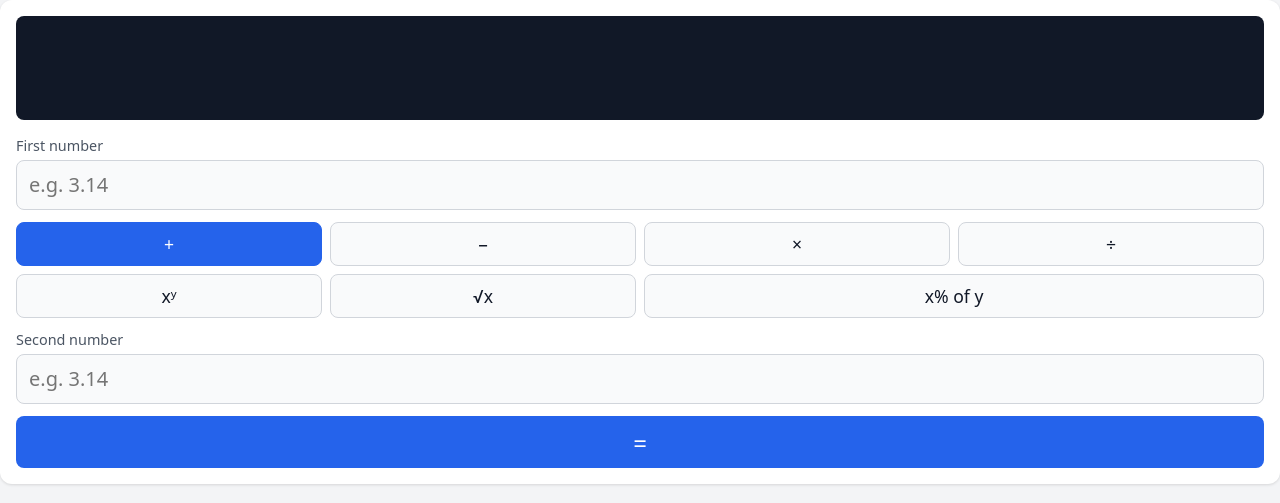
Test: Calculator › sends the operands to the selected operation and shows the result
Type "10" into the field labelled "First number" at (640, 185), box top-left (16, 160), bottom-right (1264, 210)
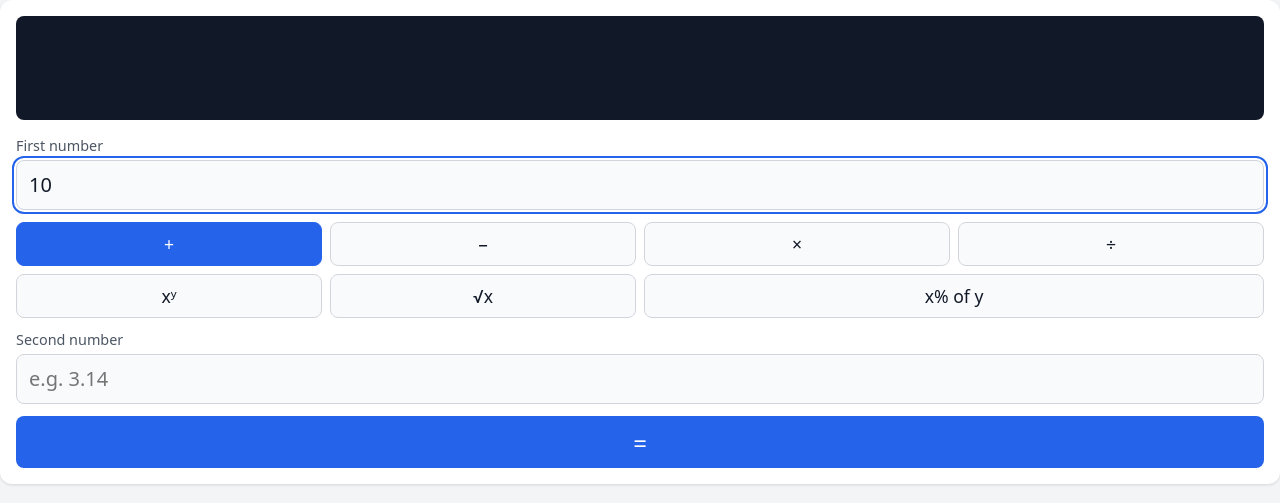
Click the radio button named "Divide" at (1111, 244), box top-left (958, 222), bottom-right (1264, 266)
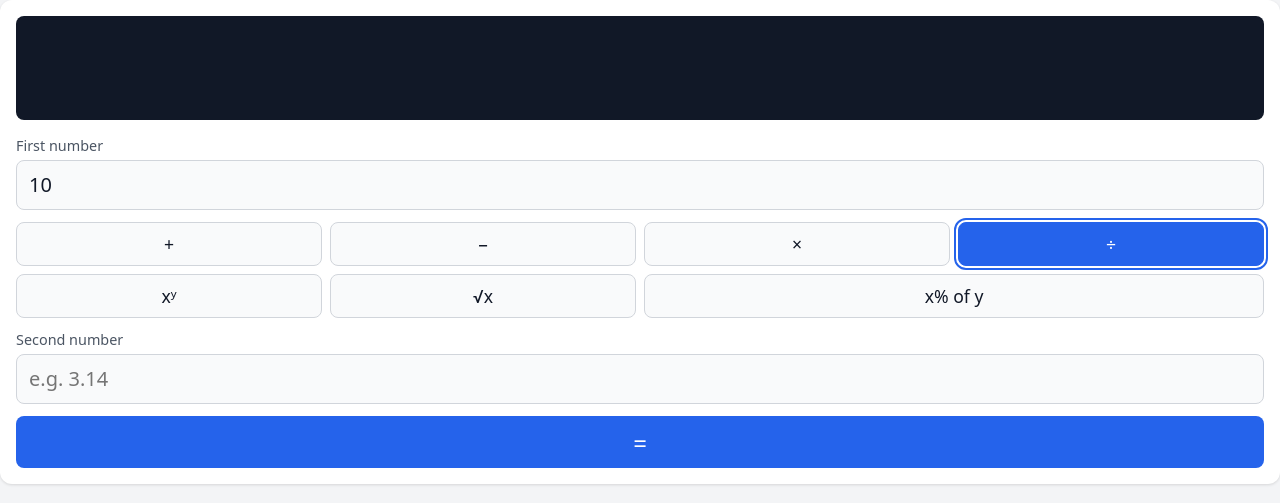
Type "4" into the field labelled "Second number" at (640, 379), box top-left (16, 354), bottom-right (1264, 404)
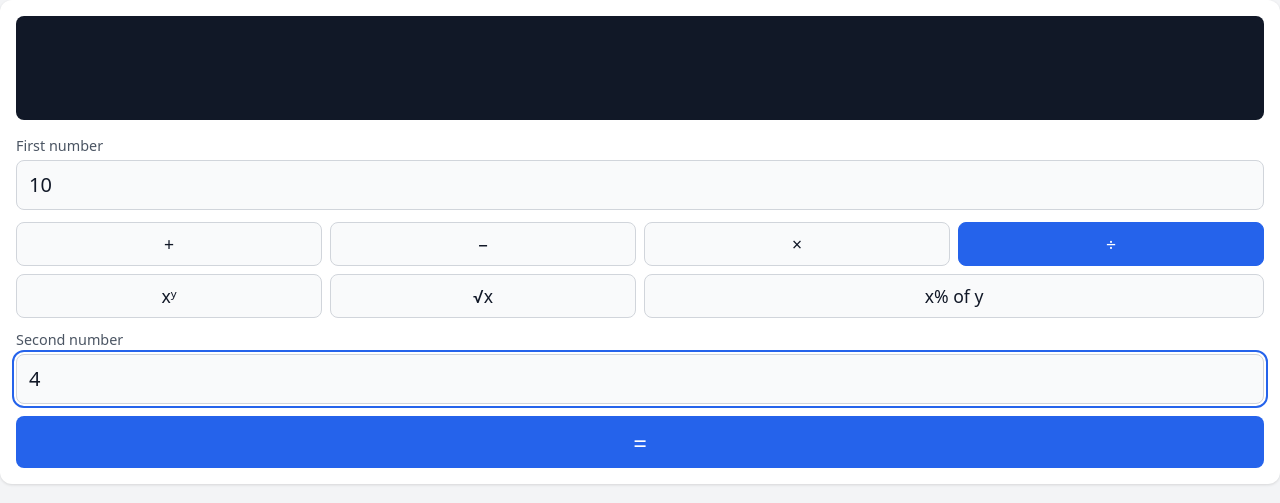
Click the button named "Calculate" at (640, 442), box top-left (16, 416), bottom-right (1264, 468)
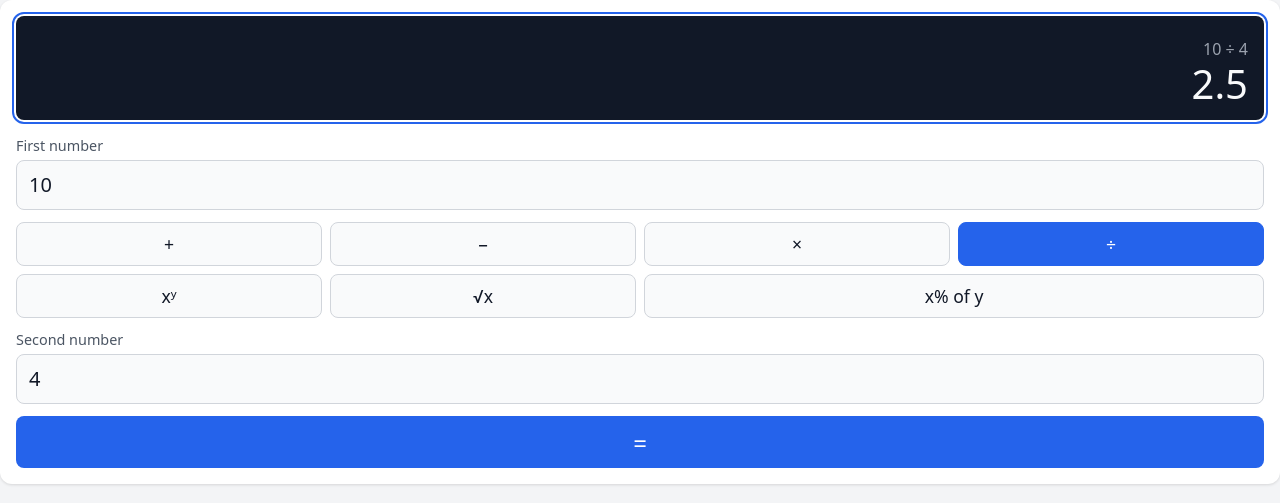
Check: the text "2.5" is shown, box top-left (1192, 56), bottom-right (1248, 111)
Check: the element named "Result" shows "10 ÷ 4", box top-left (1203, 38), bottom-right (1248, 60)
